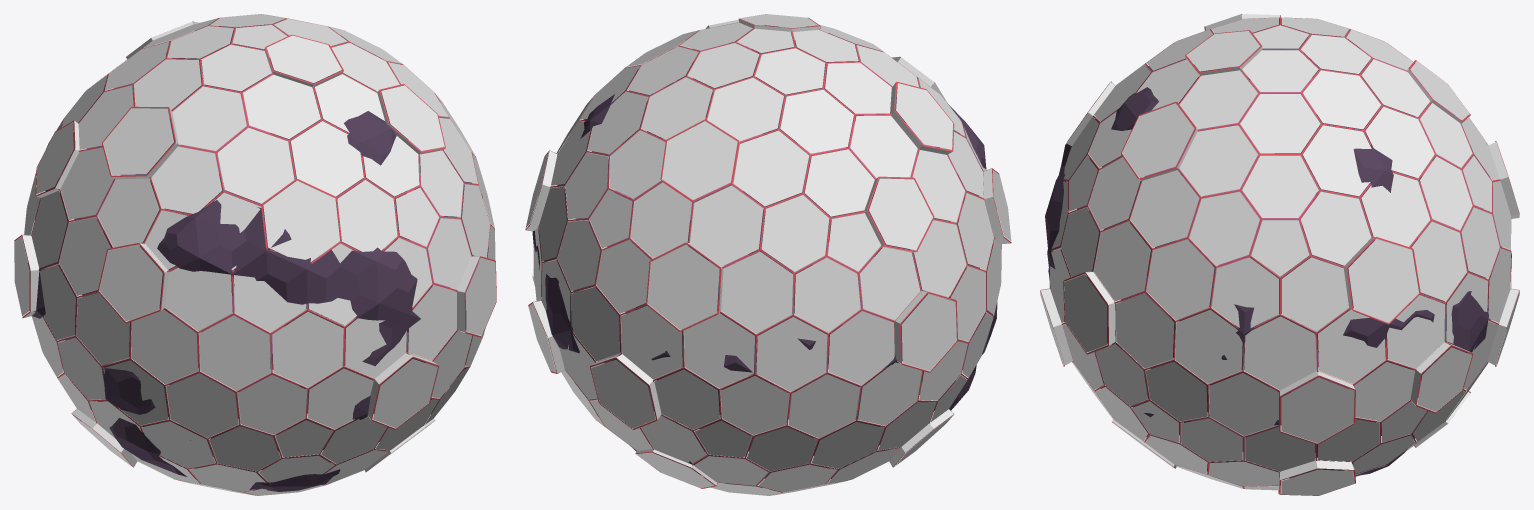
Rendered from HexagonWorld2Detailed.fbx.
3 views of the same model, side by side, from view 1: azimuth 30°, elevation 25°; view 2: azimuth 150°, elevation 25°; view 3: azimuth 270°, elevation 25° (orthographic).
Visible parts, largest first — view 1: DualMesh, Ground, DualMesh.003, DualMesh.015, DualMesh.022, DualMesh.012, DualMesh.013, DualMesh.016, DualMesh.023, DualMesh.004, DualMesh.014, DualMesh.010 (+3 smaller); view 2: DualMesh, Ground, DualMesh.003, DualMesh.008, DualMesh.009, DualMesh.011, DualMesh.010, DualMesh.006, DualMesh.004, DualMesh.022, Water, DualMesh.012 (+5 smaller); view 3: DualMesh, Ground, DualMesh.003, DualMesh.017, DualMesh.020, DualMesh.016, DualMesh.014, DualMesh.004, DualMesh.005, DualMesh.023, DualMesh.027, Water (+5 smaller).
Boxes of the visible parts, bbox=[...] form: DualMesh: bbox=[24, 14, 495, 495]; Ground: bbox=[28, 24, 488, 491]; DualMesh.003: bbox=[36, 14, 494, 495]; DualMesh.015: bbox=[261, 179, 341, 263]; DualMesh.022: bbox=[102, 106, 179, 180]; DualMesh.012: bbox=[98, 243, 168, 323]; DualMesh.013: bbox=[367, 353, 438, 429]; DualMesh.016: bbox=[377, 84, 445, 156]; DualMesh.023: bbox=[264, 35, 343, 91]; DualMesh.004: bbox=[30, 18, 490, 451]; DualMesh.014: bbox=[454, 256, 496, 337]; DualMesh.010: bbox=[35, 120, 85, 197]; DualMesh: bbox=[533, 22, 1001, 495]; Ground: bbox=[532, 25, 997, 487]; DualMesh.003: bbox=[542, 30, 993, 495]; DualMesh.008: bbox=[646, 242, 723, 331]; DualMesh.009: bbox=[660, 119, 739, 202]; DualMesh.011: bbox=[895, 290, 957, 372]; DualMesh.010: bbox=[863, 176, 934, 252]; DualMesh.006: bbox=[590, 354, 661, 429]; DualMesh.004: bbox=[535, 21, 1001, 486]; DualMesh.022: bbox=[890, 82, 954, 154]; Water: bbox=[562, 35, 972, 468]; DualMesh.012: bbox=[983, 168, 1011, 243]; DualMesh: bbox=[1049, 17, 1511, 490]; Ground: bbox=[1045, 18, 1511, 478]; DualMesh.003: bbox=[1051, 17, 1510, 488]; DualMesh.017: bbox=[1342, 237, 1420, 324]; DualMesh.020: bbox=[1279, 371, 1355, 444]; DualMesh.016: bbox=[1121, 102, 1197, 180]; DualMesh.014: bbox=[1063, 271, 1115, 354]; DualMesh.004: bbox=[1049, 29, 1510, 486]; DualMesh.005: bbox=[1410, 342, 1473, 413]; DualMesh.023: bbox=[1185, 30, 1262, 76]; DualMesh.027: bbox=[1279, 460, 1355, 495]; Water: bbox=[1077, 48, 1501, 451].
Bounding box in the file's own units: 209 × 211 × 209.
